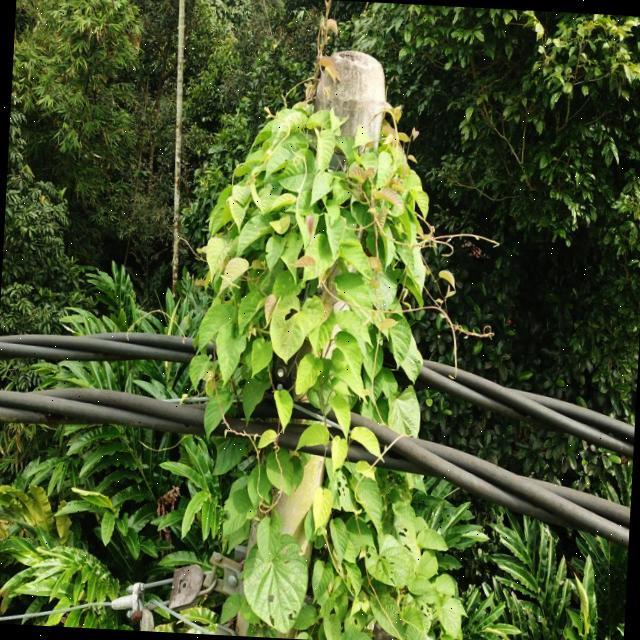critical vegetation: (154, 26, 488, 624)
